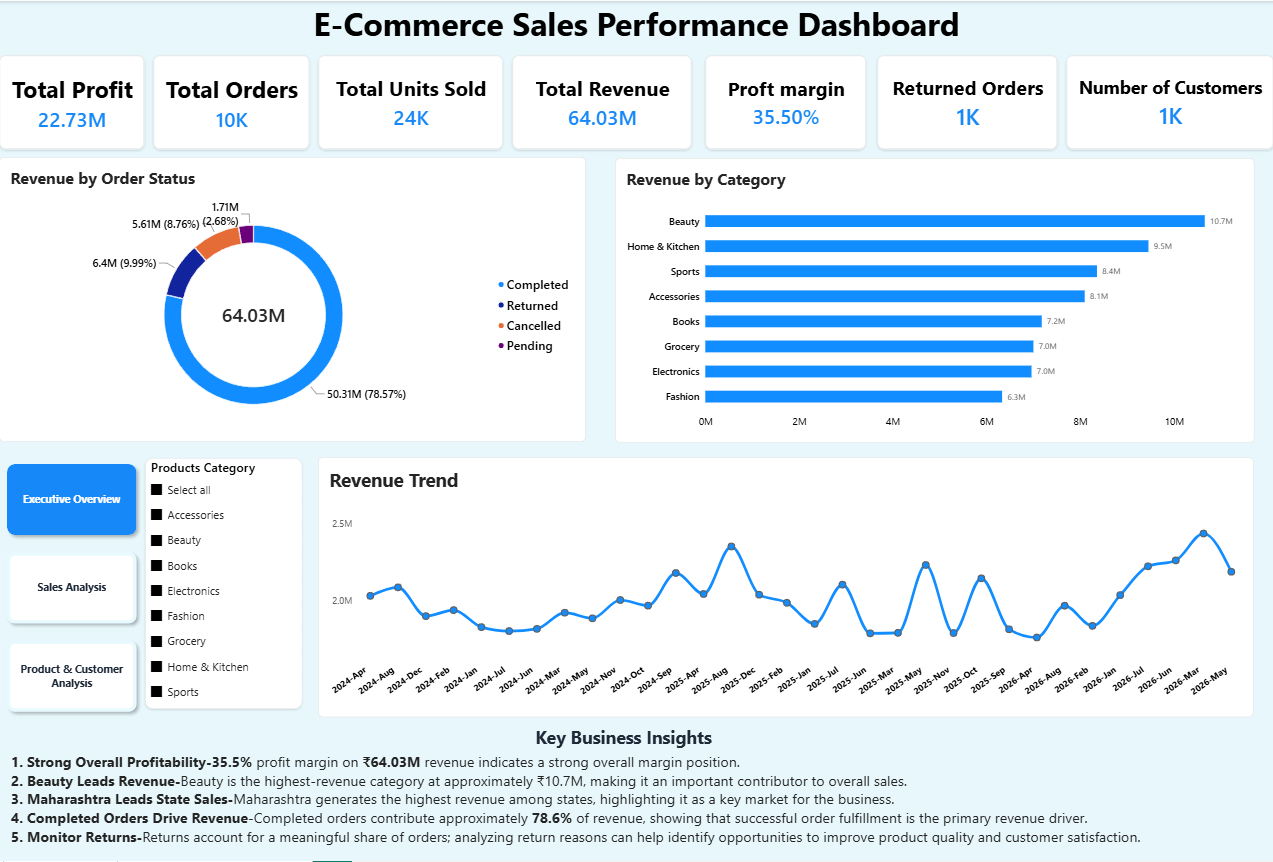

The dashboard page shown, as its layout file describes it:
{"tool":"powerbi","page":{"name":"Executive Overview","canvas":[1920,1295],"ordinal":0},"visuals":[{"type":"cardVisual","fields":{"Data":["fact_orders.Total Profit"]},"box":[0,82,219.7,142.9],"z":0},{"type":"cardVisual","fields":{"Data":["fact_orders.Total Units Sold"]},"box":[480.3,82,279.2,142.9],"z":1000},{"type":"cardVisual","fields":{"Data":["fact_orders.Total Orders"]},"box":[231.6,82,236.9,142.9],"z":2000},{"type":"lineChart","title":"Revenue Trend","fields":{"Category":["DateTable.Year Month"],"Y":["fact_orders.Revenue"]},"box":[480.8,686.4,1409,391.6],"z":3000},{"type":"clusteredBarChart","title":"Revenue by Category","fields":{"Category":["dim_products.category"],"Y":["fact_orders.Revenue"]},"box":[928.3,235.8,963,429.4],"z":4000},{"type":"donutChart","title":"Revenue by Order Status","fields":{"Category":["fact_orders.order_status"],"Y":["fact_orders.Revenue"]},"box":[0,234.3,884.4,429.4],"z":5000},{"type":"cardVisual","fields":{"Data":["dim_customers.Number of  Customers"]},"box":[1606.4,82,313.6,142.9],"z":6000},{"type":"textbox","box":[0,0,1920,66.2],"z":7000},{"type":"cardVisual","fields":{"Data":["fact_orders.Revenue"]},"box":[772.8,82,271.3,142.9],"z":8000},{"type":"cardVisual","fields":{"Data":["fact_orders.Proft margin"]},"box":[1062.5,82,243.5,142.9],"z":9000},{"type":"cardVisual","fields":{"Data":["dim_returns.Returned Orders"]},"box":[1321.9,82,272.6,142.9],"z":10000},{"type":"slicer","fields":{"Values":["dim_products.category"]},"box":[220.6,687.4,237.4,378],"z":11000},{"type":"pageNavigator","box":[3,687.9,213.2,391.6],"z":12000},{"type":"textbox","box":[18.1,1090.2,1844.6,40.7],"z":13000},{"type":"textbox","box":[18.1,1130.9,1844.6,164.1],"z":14000}]}

Visuals, with their boxes in screenshot pixels (x1, y1, x2, y2), scaled from the page's 1920x1295 canvas onto the 1273x862 screenshot:
cardVisual - fact_orders.Total Profit: locate(0, 55, 146, 150)
cardVisual - fact_orders.Total Units Sold: locate(318, 55, 504, 150)
cardVisual - fact_orders.Total Orders: locate(154, 55, 311, 150)
"Revenue Trend" lineChart: locate(319, 457, 1253, 718)
"Revenue by Category" clusteredBarChart: locate(615, 157, 1254, 443)
"Revenue by Order Status" donutChart: locate(0, 156, 586, 442)
cardVisual - dim_customers.Number of  Customers: locate(1065, 55, 1272, 150)
textbox: locate(0, 0, 1272, 44)
cardVisual - fact_orders.Revenue: locate(512, 55, 692, 150)
cardVisual - fact_orders.Proft margin: locate(704, 55, 866, 150)
cardVisual - dim_returns.Returned Orders: locate(876, 55, 1057, 150)
slicer - dim_products.category: locate(146, 458, 304, 709)
pageNavigator: locate(2, 458, 143, 719)
textbox: locate(12, 726, 1235, 753)
textbox: locate(12, 753, 1235, 861)
